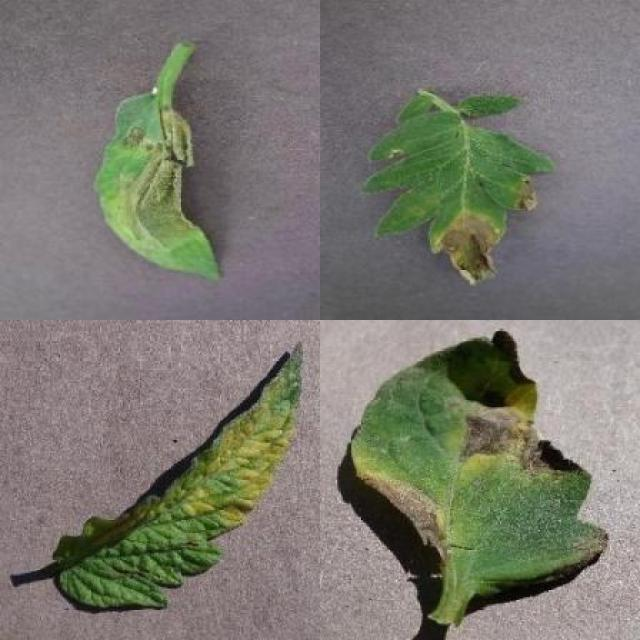Early Blight: (347, 330, 609, 596)
Late Blight: (365, 92, 558, 288), (92, 88, 225, 285)
Leaf Mold: (52, 338, 305, 612)
